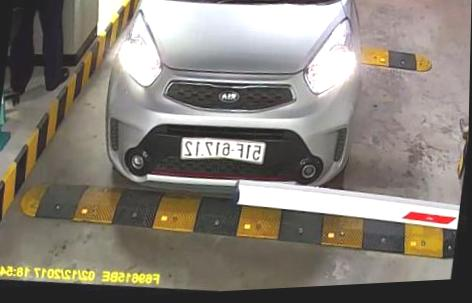License_Plate: (173, 136, 272, 170)
